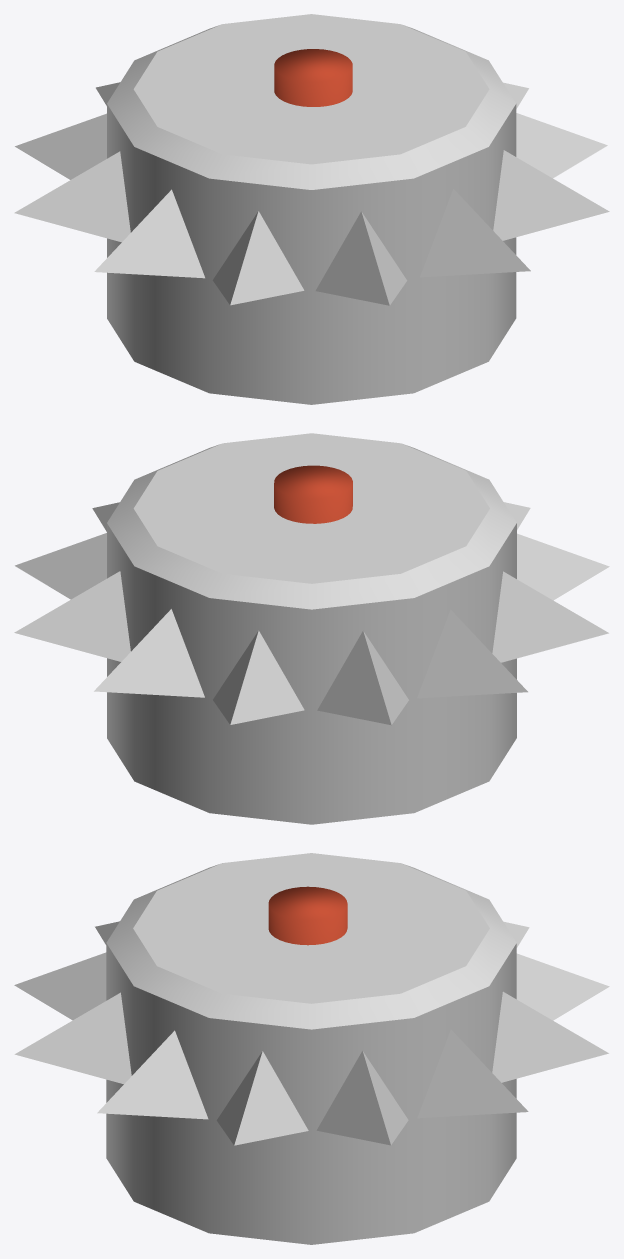
The model's file is hedgehog.fbx.
3 renders of one model, top to bottom at view 1: azimuth 30°, elevation 25°; view 2: azimuth 150°, elevation 25°; view 3: azimuth 270°, elevation 25°, orthographic.
Parts seen in each view (by area): view 1: Цилиндр.005, Конус.049, Конус.046, Конус.045, Конус.048, Конус.044, Конус.047, Цилиндр.006, Конус.050, Конус.055; view 2: Цилиндр.005, Конус.048, Конус.053, Конус.049, Конус.052, Конус.050, Конус.051, Цилиндр.006, Конус.047, Конус.054; view 3: Цилиндр.005, Конус.045, Конус.052, Конус.046, Конус.053, Конус.054, Конус.055, Цилиндр.006, Конус.044, Конус.051.
Part boxes in pixels (left/top/right/bottom): Цилиндр.005: left=107, top=14, right=516, bottom=404; Конус.049: left=14, top=151, right=130, bottom=242; Конус.046: left=493, top=150, right=609, bottom=240; Конус.045: left=420, top=189, right=530, bottom=277; Конус.048: left=94, top=189, right=204, bottom=278; Конус.044: left=315, top=211, right=407, bottom=305; Конус.047: left=212, top=211, right=304, bottom=305; Цилиндр.006: left=274, top=49, right=352, bottom=106; Конус.050: left=15, top=113, right=106, bottom=179; Конус.055: left=516, top=113, right=607, bottom=178; Цилиндр.005: left=107, top=433, right=516, bottom=824; Конус.048: left=492, top=571, right=608, bottom=662; Конус.053: left=14, top=571, right=130, bottom=661; Конус.049: left=417, top=609, right=527, bottom=698; Конус.052: left=94, top=609, right=204, bottom=697; Конус.050: left=317, top=631, right=408, bottom=725; Конус.051: left=213, top=630, right=304, bottom=724; Цилиндр.006: left=274, top=465, right=352, bottom=523; Конус.047: left=517, top=533, right=609, bottom=600; Конус.054: left=15, top=533, right=106, bottom=599; Цилиндр.005: left=106, top=853, right=516, bottom=1244; Конус.045: left=14, top=992, right=131, bottom=1084; Конус.052: left=492, top=991, right=608, bottom=1082; Конус.046: left=97, top=1030, right=208, bottom=1119; Конус.053: left=417, top=1029, right=528, bottom=1118; Конус.054: left=316, top=1051, right=408, bottom=1145; Конус.055: left=216, top=1051, right=308, bottom=1145; Цилиндр.006: left=268, top=886, right=347, bottom=945; Конус.044: left=14, top=952, right=106, bottom=1020; Конус.051: left=516, top=953, right=609, bottom=1020.
Size of the model in its own units: 291 by 137 by 290.
